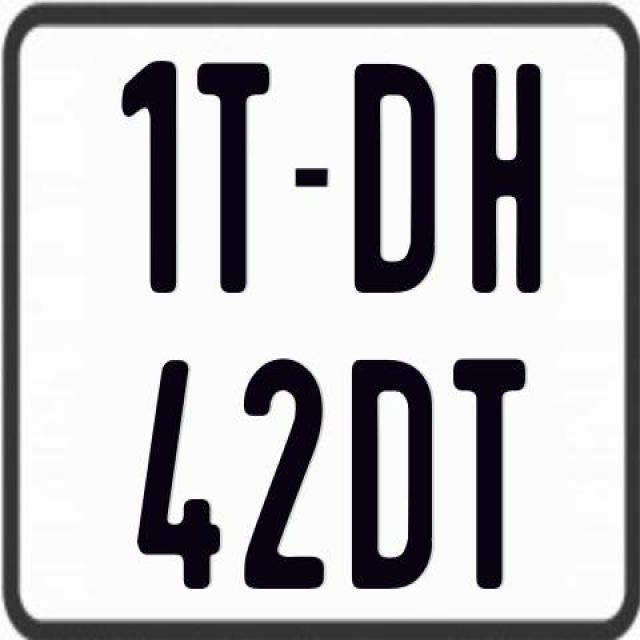1: (118, 59, 174, 293)
2: (244, 353, 332, 588)
4: (136, 357, 220, 592)
D: (354, 60, 442, 298), (348, 360, 433, 595)
H: (472, 61, 543, 292)
T: (451, 358, 528, 596), (193, 61, 270, 294)
